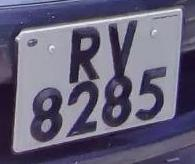2: (67, 77, 101, 137)
5: (134, 58, 172, 126)
8: (28, 82, 66, 145), (101, 70, 135, 129)
R: (64, 23, 106, 84)
V: (102, 19, 144, 76)
